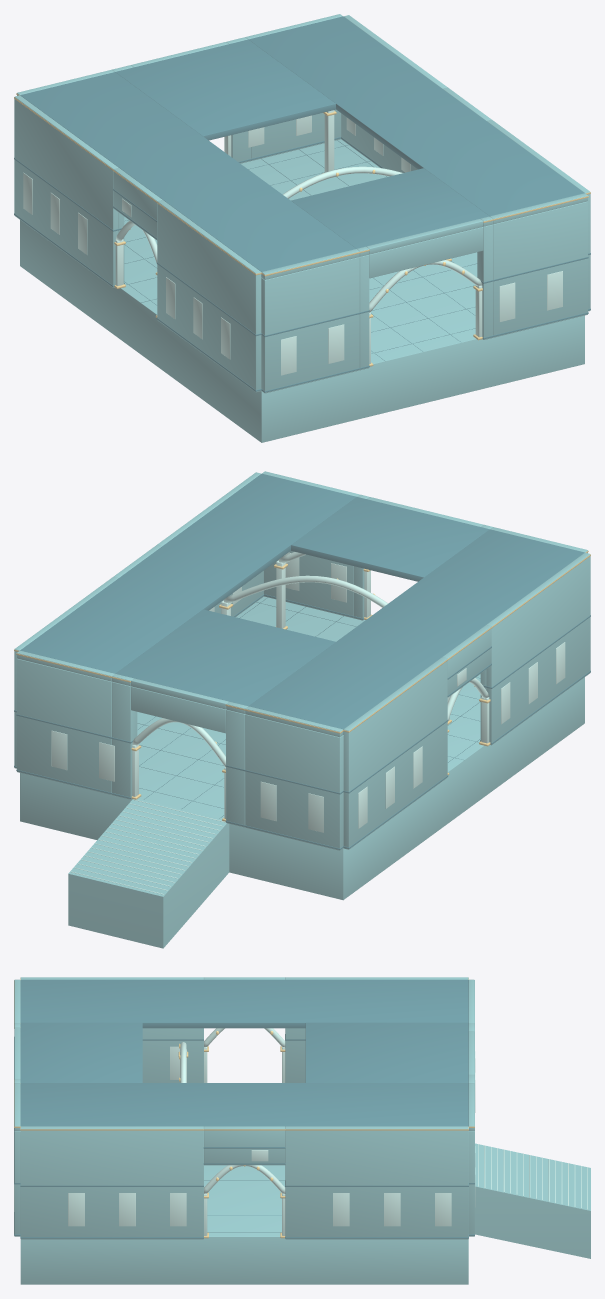
File: atlantis_district_hall.glb
The picture shows the model from 3 angles, top to bottom: view 1: azimuth 30°, elevation 25°; view 2: azimuth 150°, elevation 25°; view 3: azimuth 270°, elevation 25°; orthographic projection. The views are drawn at different scales.
Visible parts, largest first — view 1: atlantis_district_hall_surface; view 2: atlantis_district_hall_surface; view 3: atlantis_district_hall_surface.
Part boxes in pixels (x1,y1,x2,y2): atlantis_district_hall_surface: [14, 14, 590, 442]; atlantis_district_hall_surface: [14, 471, 590, 948]; atlantis_district_hall_surface: [14, 977, 590, 1284].
Size of the model in its own units: 35.28 by 20 by 56.64.
